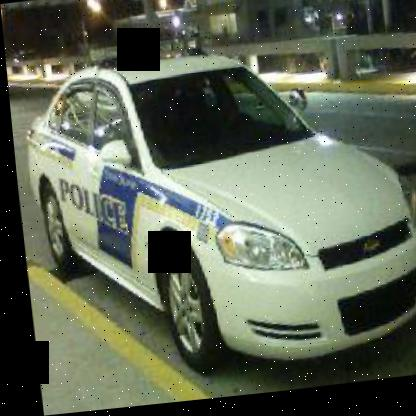emergency: (14, 5, 415, 380)
